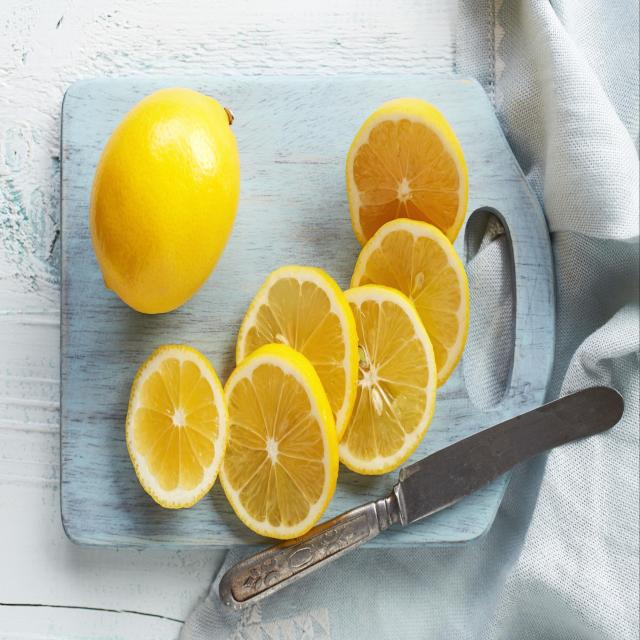lemon: (87, 84, 243, 319)
